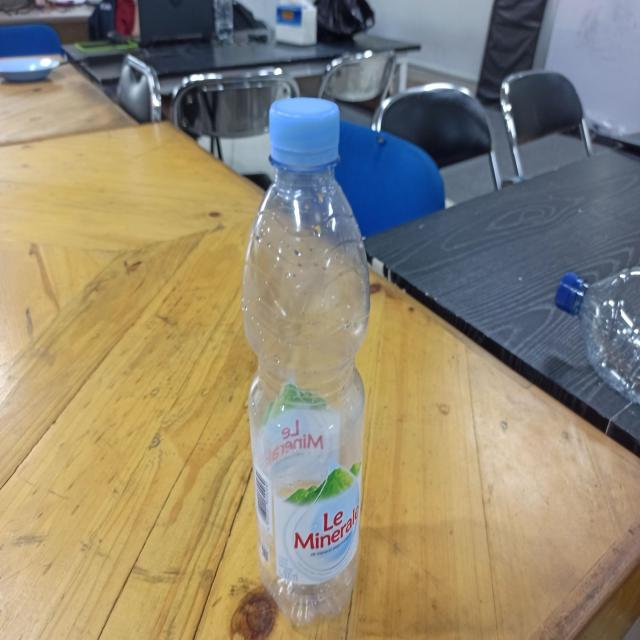BotolPlastik: (240, 95, 371, 626)
